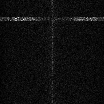wifi: (1, 16, 104, 21)
